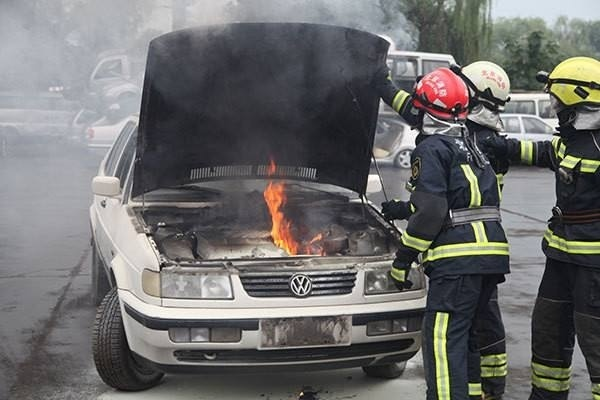fire: (261, 158, 326, 258)
